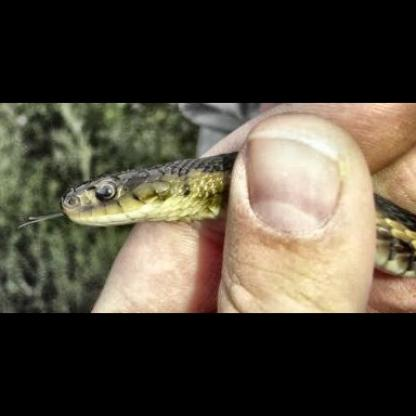Snake: (40, 147, 236, 228)
